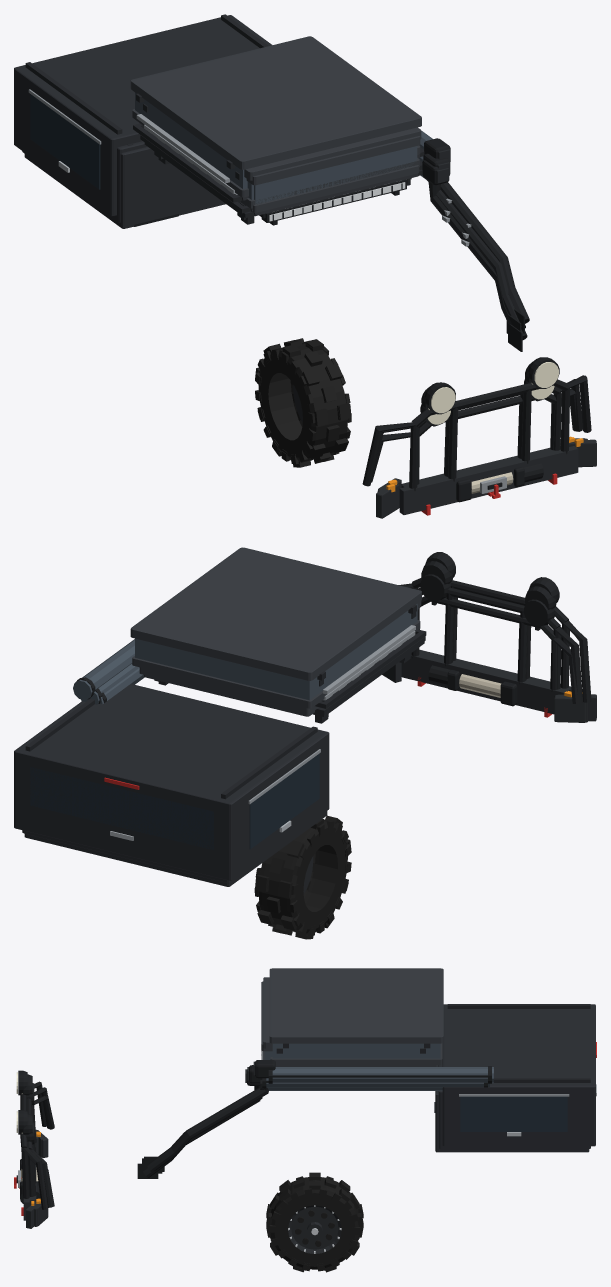
The model's file is ute_kit.glb.
The picture shows the model from 3 angles, top to bottom: view 1: azimuth 30°, elevation 25°; view 2: azimuth 150°, elevation 25°; view 3: azimuth 270°, elevation 25°; orthographic projection. The views are drawn at different scales.
Parts seen in each view (by area): view 1: kit_rooftent_shark, kit_canopy_shark, kit_bullbar_shark, kit_mudtyres_shark, kit_rooftent_hilux, kit_canopy_hilux, kit_rooftent_ranger, kit_mudtyres_hilux, kit_bullbar_hilux, kit_bullbar_ranger, kit_snorkel_shark, kit_snorkel_hilux (+7 smaller); view 2: kit_canopy_shark, kit_rooftent_shark, kit_bullbar_hilux, kit_mudtyres_shark, kit_bullbar_shark, kit_mudtyres_hilux, kit_bullbar_ranger, kit_rooftent_ranger, kit_winch_hilux, kit_awning_shark, kit_canopy_hilux, kit_spotlights_hilux (+6 smaller); view 3: kit_canopy_shark, kit_rooftent_shark, kit_mudtyres_shark, kit_awning_shark, kit_snorkel_shark, kit_bullbar_shark, kit_mudtyres_hilux, kit_awning_ranger, kit_bullbar_hilux, kit_bullbar_ranger, kit_canopy_hilux, kit_rooftent_ranger (+4 smaller).
Boxes of the visible parts, box(x1,y1,x2,y2) form: kit_rooftent_shark: box(130, 36, 421, 197); kit_canopy_shark: box(14, 14, 272, 216); kit_bullbar_shark: box(362, 375, 596, 518); kit_mudtyres_shark: box(255, 338, 351, 467); kit_rooftent_hilux: box(158, 136, 420, 212); kit_canopy_hilux: box(24, 143, 225, 228); kit_rooftent_ranger: box(139, 104, 421, 208); kit_mudtyres_hilux: box(258, 340, 348, 465); kit_bullbar_hilux: box(373, 388, 584, 511); kit_bullbar_ranger: box(371, 379, 587, 512); kit_snorkel_shark: box(424, 138, 529, 333); kit_snorkel_hilux: box(422, 160, 527, 351); kit_canopy_shark: box(14, 684, 329, 880); kit_rooftent_shark: box(130, 547, 421, 708); kit_bullbar_hilux: box(382, 596, 585, 722); kit_mudtyres_shark: box(254, 815, 351, 939); kit_bullbar_shark: box(398, 577, 596, 721); kit_mudtyres_hilux: box(258, 817, 348, 937); kit_bullbar_ranger: box(416, 587, 588, 722); kit_rooftent_ranger: box(139, 601, 421, 714); kit_winch_hilux: box(428, 665, 517, 706); kit_awning_shark: box(73, 639, 134, 700); kit_canopy_hilux: box(24, 811, 327, 886); kit_spotlights_hilux: box(420, 574, 554, 630); kit_canopy_shark: box(442, 1004, 596, 1146); kit_rooftent_shark: box(269, 968, 443, 1064); kit_mudtyres_shark: box(266, 1172, 363, 1272); kit_awning_shark: box(268, 1063, 493, 1083); kit_snorkel_shark: box(144, 1060, 275, 1171); kit_bullbar_shark: box(20, 1081, 48, 1228); kit_mudtyres_hilux: box(269, 1178, 360, 1269); kit_awning_ranger: box(262, 1078, 489, 1088); kit_bullbar_hilux: box(30, 1096, 54, 1226); kit_bullbar_ranger: box(26, 1087, 52, 1226); kit_canopy_hilux: box(435, 1091, 589, 1152); kit_rooftent_ranger: box(263, 977, 438, 1066).
Size of the model in its own units: 2.07 by 2.83 by 5.66.
